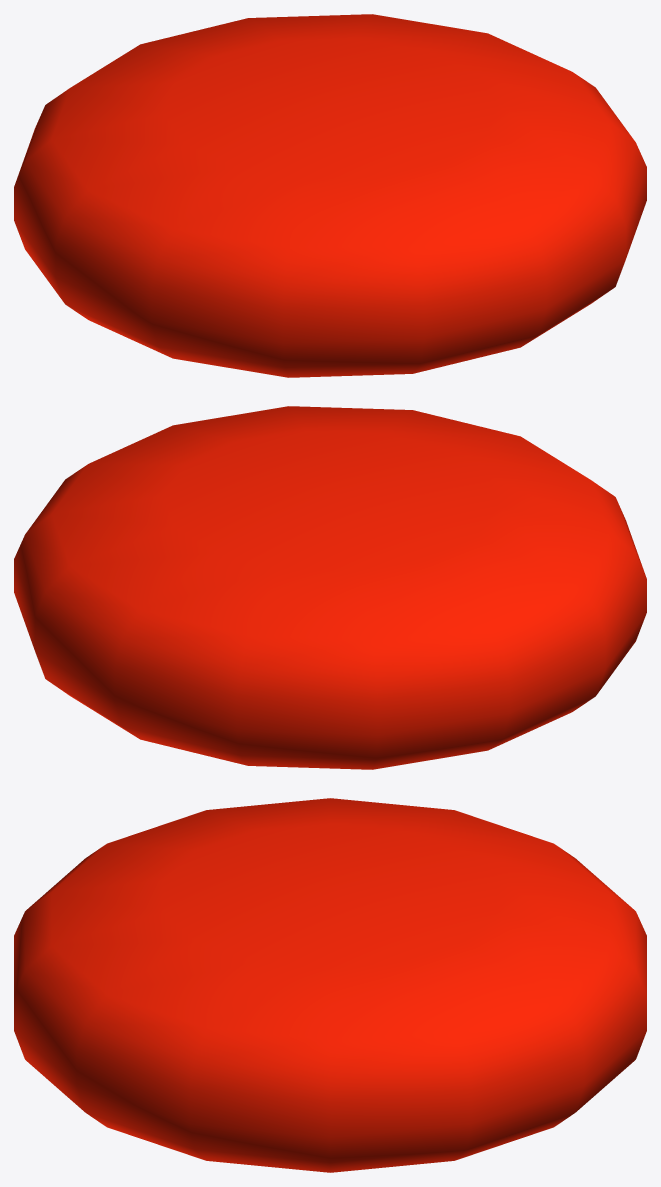
Rendered from Dragee Red.fbx.
The picture shows the model from 3 angles, top to bottom: view 1: azimuth 30°, elevation 25°; view 2: azimuth 150°, elevation 25°; view 3: azimuth 270°, elevation 25°; orthographic projection. The views are drawn at different scales.
Visible parts, largest first — view 1: Dragee Red; view 2: Dragee Red; view 3: Dragee Red.
Part boxes in pixels (left/top/right/bottom): Dragee Red: left=14, top=14, right=646, bottom=377; Dragee Red: left=14, top=406, right=646, bottom=769; Dragee Red: left=14, top=798, right=646, bottom=1172.
Bounding box in the file's own units: 0.0851 × 0.0277 × 0.083.
